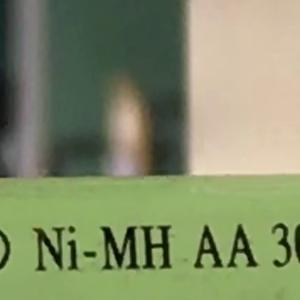NI-MH: (23, 215, 177, 281)
